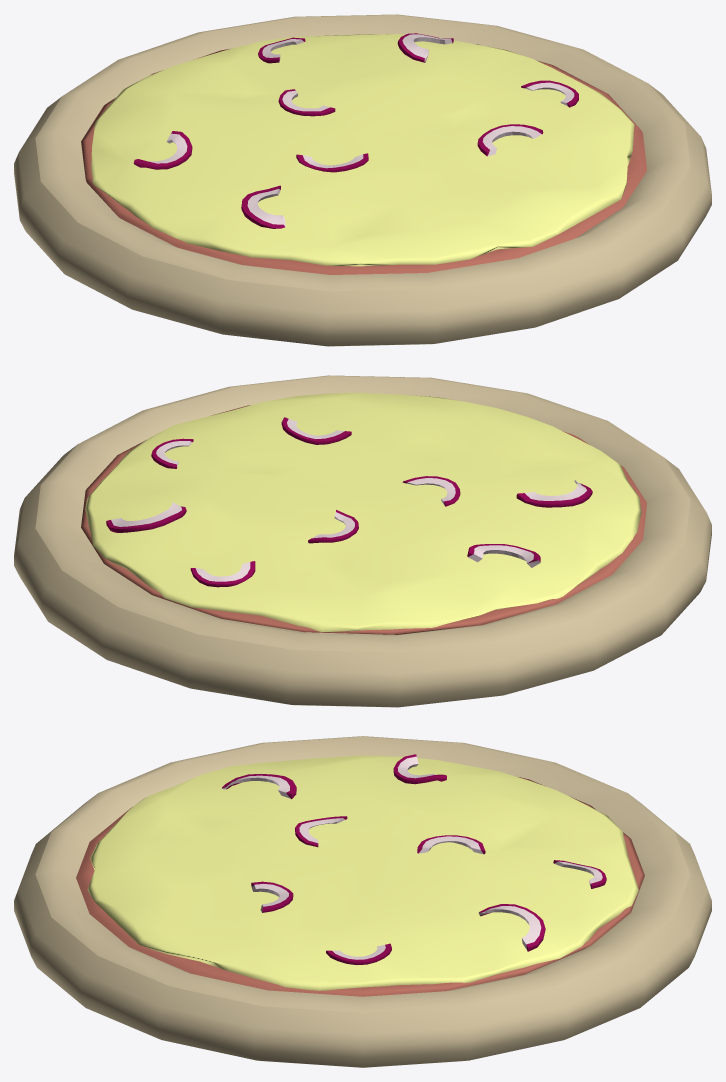
Rendered from thick_onion.gltf.
The picture shows the model from 3 angles, top to bottom: view 1: azimuth 30°, elevation 25°; view 2: azimuth 150°, elevation 25°; view 3: azimuth 270°, elevation 25°; orthographic projection.
Parts seen in each view (by area): view 1: cheese, thick, polySurface210, polySurface209, polySurface214, polySurface215, polySurface213, polySurface211, polySurface212, polySurface208; view 2: cheese, thick, polySurface215, polySurface210, polySurface214, polySurface208, polySurface209, polySurface213, polySurface211, polySurface212; view 3: cheese, thick, polySurface215, polySurface214, polySurface210, polySurface209, polySurface211, polySurface212, polySurface213, polySurface208.
Part boxes in pixels (bbox=[...]): cheese: bbox=[91, 34, 634, 266]; thick: bbox=[14, 14, 711, 346]; polySurface210: bbox=[241, 185, 285, 228]; polySurface209: bbox=[477, 124, 543, 156]; polySurface214: bbox=[133, 131, 192, 169]; polySurface215: bbox=[397, 33, 453, 62]; polySurface213: bbox=[296, 153, 368, 172]; polySurface211: bbox=[278, 89, 335, 116]; polySurface212: bbox=[521, 80, 578, 107]; polySurface208: bbox=[258, 37, 305, 63]; cheese: bbox=[85, 393, 641, 631]; thick: bbox=[14, 375, 711, 707]; polySurface215: bbox=[106, 502, 186, 532]; polySurface210: bbox=[516, 480, 592, 507]; polySurface214: bbox=[467, 544, 540, 567]; polySurface208: bbox=[190, 561, 255, 587]; polySurface209: bbox=[281, 417, 351, 444]; polySurface213: bbox=[402, 476, 460, 506]; polySurface211: bbox=[308, 510, 358, 543]; polySurface212: bbox=[151, 438, 193, 468]; cheese: bbox=[87, 755, 638, 990]; thick: bbox=[14, 736, 711, 1067]; polySurface215: bbox=[478, 904, 545, 951]; polySurface214: bbox=[393, 754, 446, 784]; polySurface210: bbox=[221, 774, 296, 799]; polySurface209: bbox=[251, 881, 293, 912]; polySurface211: bbox=[417, 835, 485, 854]; polySurface212: bbox=[326, 943, 391, 964]; polySurface213: bbox=[295, 816, 347, 847]; polySurface208: bbox=[553, 860, 606, 888].
Bounding box in the file's own units: 0.1035 × 0.0136 × 0.1035.
